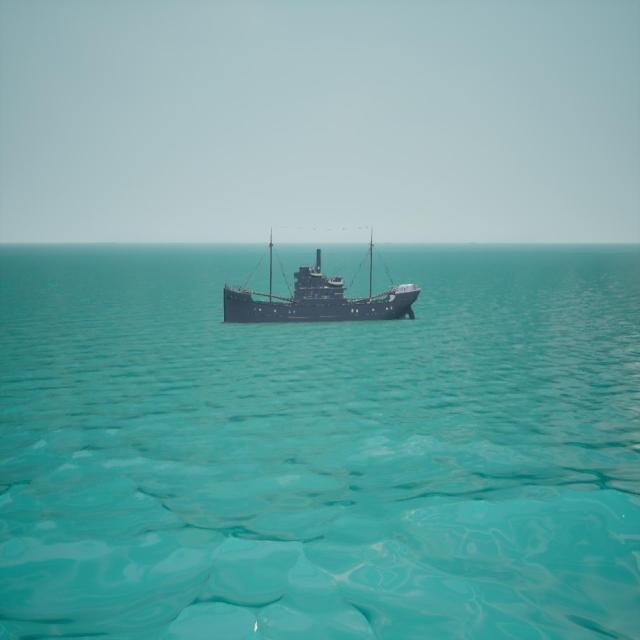fishing ship: (227, 230, 422, 324)
